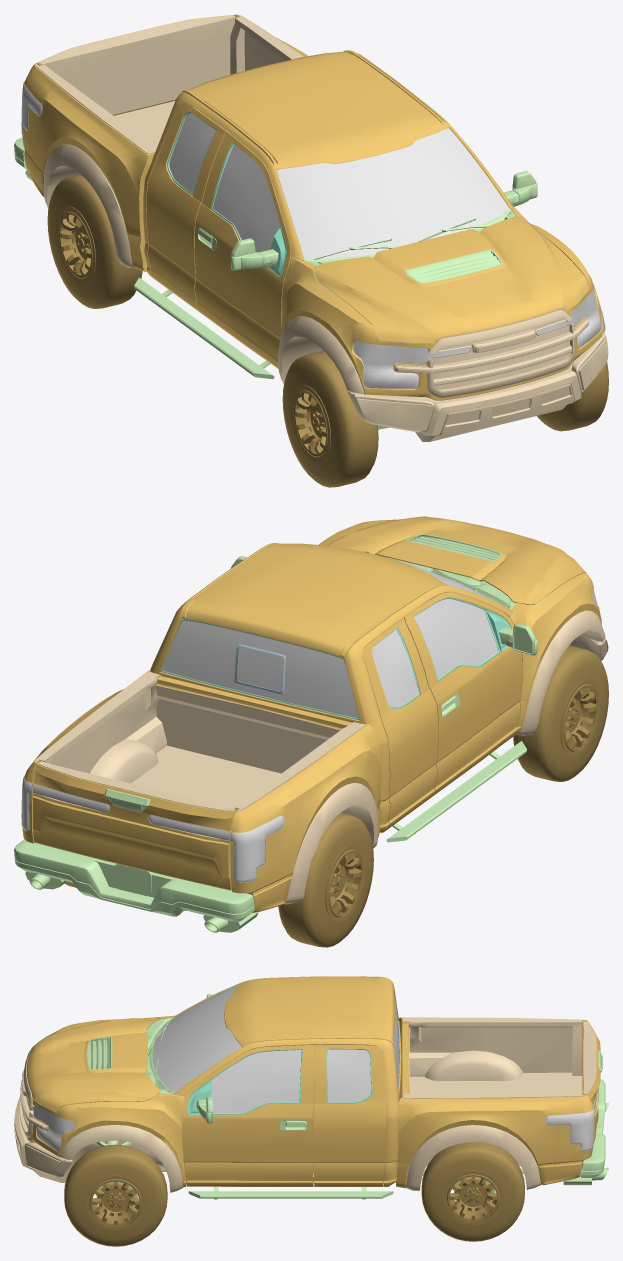
Rendered from Pickup_Truck.fbx.
3 views of the same model, one above another, from view 1: azimuth 30°, elevation 25°; view 2: azimuth 150°, elevation 25°; view 3: azimuth 270°, elevation 25° (orthographic). The views are drawn at different scales.
Visible parts, largest first — view 1: SM_Pickup, SM_Cargo_Door, SM_Door_Front_Right, SM_Wheel_2_1, SM_Wheel_2_2, SM_Door_Rear_Right, SM_Front_window_2, SM_Rear_Window_4, SM_Wheel_1_1, SM_Door_Front_Left; view 2: SM_Pickup, SM_Cargo_Door, SM_Door_Front_Right, SM_Wheel_2_1, SM_Wheel_2_2, SM_Door_Rear_Right, SM_Front_window_2, SM_Rear_Window_4; view 3: SM_Pickup, SM_Door_Front_Left, SM_Wheel_1_1, SM_Wheel_1_2, SM_Door_Rear_Left, SM_Front_window_1, SM_Rear_Window_2, SM_Cargo_Door.
Part boxes in pixels (bbox=[...]): SM_Pickup: bbox=[14, 14, 608, 441]; SM_Cargo_Door: bbox=[36, 15, 236, 115]; SM_Door_Front_Right: bbox=[194, 131, 290, 368]; SM_Wheel_2_1: bbox=[282, 350, 378, 487]; SM_Wheel_2_2: bbox=[47, 174, 142, 308]; SM_Door_Rear_Right: bbox=[146, 102, 231, 310]; SM_Front_window_2: bbox=[212, 144, 280, 252]; SM_Rear_Window_4: bbox=[169, 113, 215, 194]; SM_Wheel_1_1: bbox=[537, 361, 608, 431]; SM_Door_Front_Left: bbox=[504, 171, 537, 206]; SM_Pickup: bbox=[14, 516, 608, 932]; SM_Cargo_Door: bbox=[32, 761, 236, 890]; SM_Door_Front_Right: bbox=[403, 592, 537, 795]; SM_Wheel_2_1: bbox=[513, 645, 608, 781]; SM_Wheel_2_2: bbox=[278, 812, 373, 947]; SM_Door_Rear_Right: bbox=[363, 616, 438, 829]; SM_Front_window_2: bbox=[414, 599, 498, 678]; SM_Rear_Window_4: bbox=[372, 629, 418, 706]; SM_Pickup: bbox=[14, 976, 608, 1202]; SM_Door_Front_Left: bbox=[182, 1045, 314, 1186]; SM_Wheel_1_1: bbox=[64, 1144, 167, 1246]; SM_Wheel_1_2: bbox=[421, 1142, 524, 1241]; SM_Door_Rear_Left: bbox=[312, 1044, 386, 1186]; SM_Front_window_1: bbox=[211, 1050, 301, 1113]; SM_Rear_Window_2: bbox=[327, 1049, 371, 1102]; SM_Cargo_Door: bbox=[583, 1021, 602, 1143].
Size of the model in its own units: 261 by 211 by 581.
